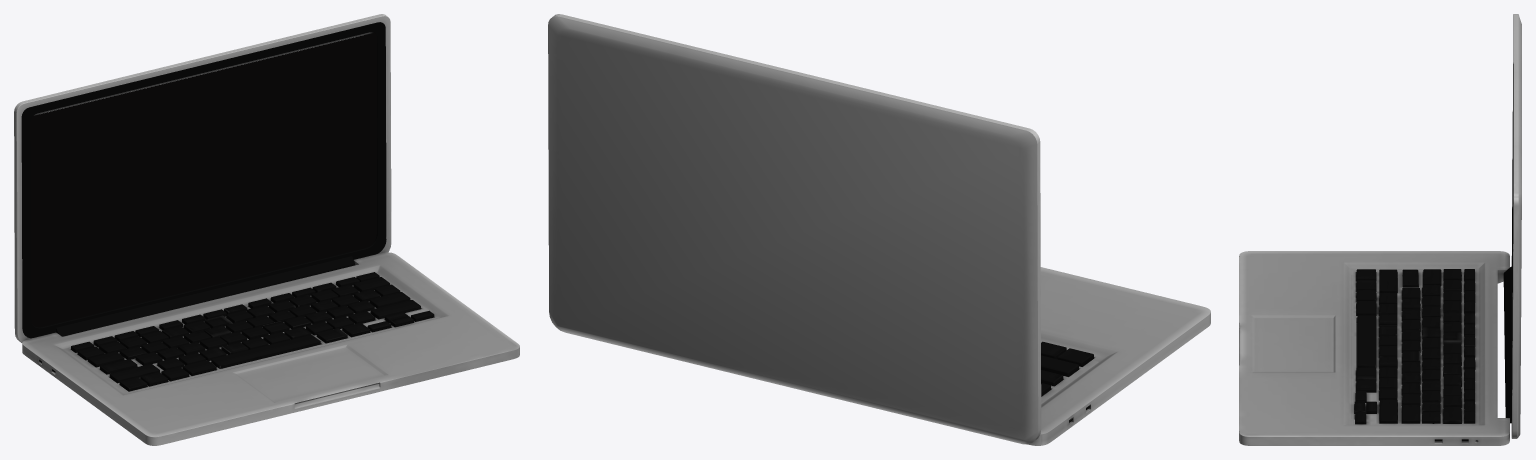
The model's file is laptop-final.glb.
3 renders of one model, left to right at view 1: azimuth 30°, elevation 25°; view 2: azimuth 150°, elevation 25°; view 3: azimuth 270°, elevation 25°, orthographic. The views are drawn at different scales.
Parts seen in each view (by area): view 1: Object_3, Object_11, Object_4, Object_6, Object_7, Object_12, Object_8; view 2: Object_12, Object_11, Object_7; view 3: Object_11, Object_7, Object_6, Object_12, Object_10, Object_4, Object_8.
Part boxes in pixels (left/top/right/bottom): Object_3: left=30, top=33, right=376, bottom=327; Object_11: left=22, top=252, right=519, bottom=445; Object_4: left=21, top=22, right=386, bottom=338; Object_6: left=93, top=277, right=359, bottom=391; Object_7: left=71, top=272, right=413, bottom=386; Object_12: left=14, top=14, right=391, bottom=349; Object_8: left=100, top=300, right=434, bottom=374; Object_12: left=548, top=14, right=1041, bottom=444; Object_11: left=1028, top=267, right=1210, bottom=445; Object_7: left=1041, top=341, right=1078, bottom=396; Object_11: left=1239, top=251, right=1509, bottom=445; Object_7: left=1354, top=269, right=1474, bottom=423; Object_6: left=1356, top=269, right=1474, bottom=411; Object_12: left=1421, top=14, right=1521, bottom=438; Object_10: left=1354, top=271, right=1477, bottom=441; Object_4: left=1503, top=64, right=1513, bottom=423; Object_8: left=1355, top=269, right=1418, bottom=424.
Bounding box in the file's own units: 6.83 × 4.39 × 4.38.
7 materials, 4 textured.
